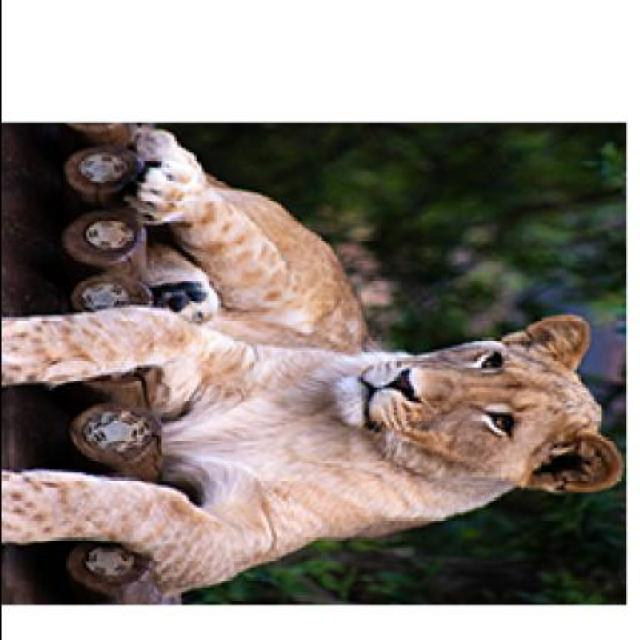Lion: (3, 100, 631, 617)
